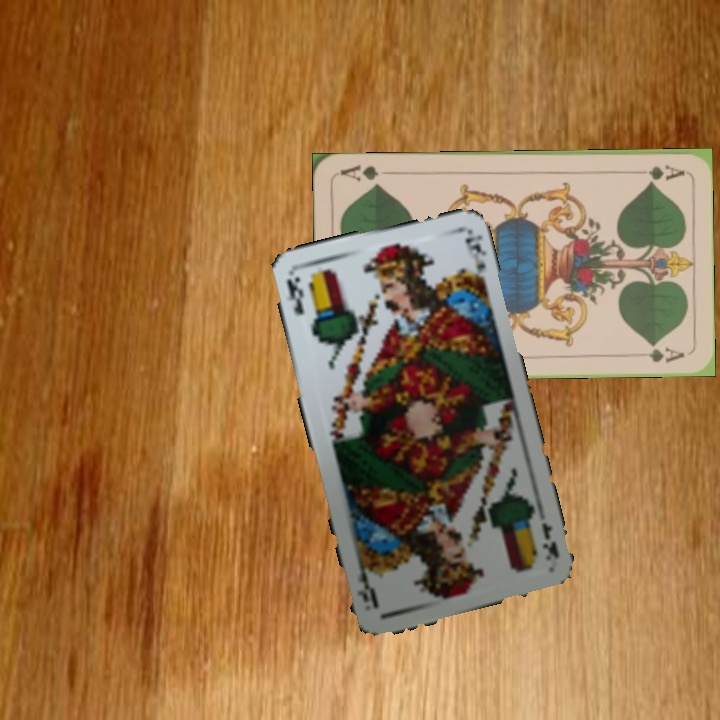EK: (282, 273, 307, 317), (537, 519, 562, 563)
GA: (627, 160, 686, 183)
